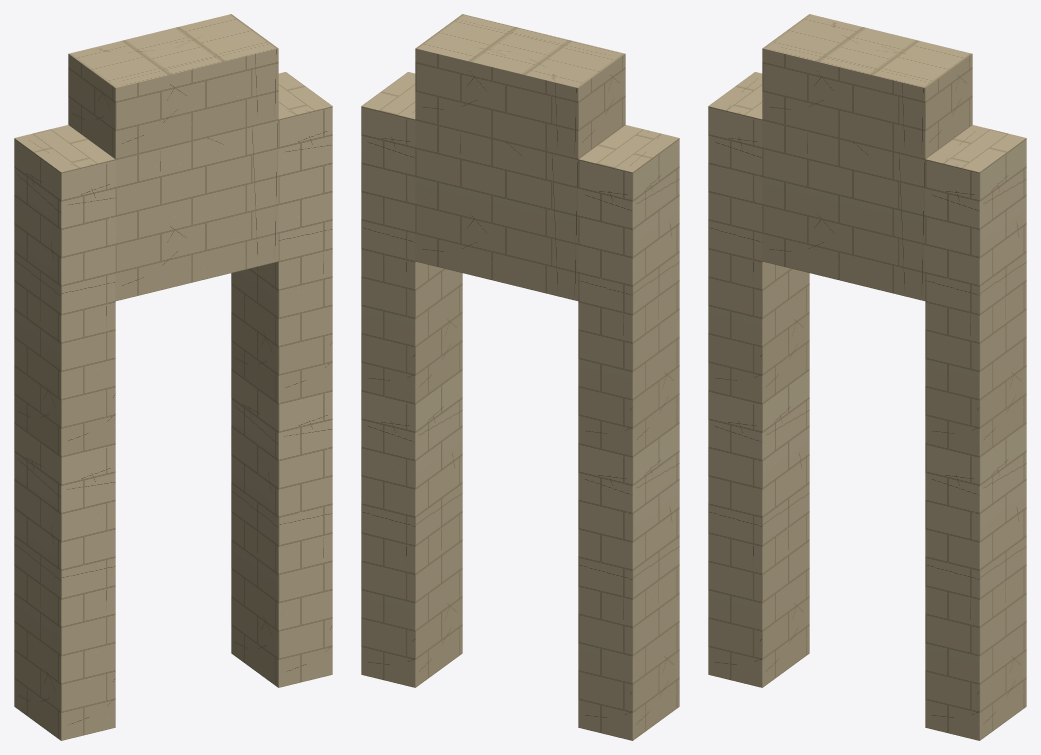
The model's file is doorway_arch.obj.
3 views of the same model, side by side, from view 1: azimuth 30°, elevation 25°; view 2: azimuth 150°, elevation 25°; view 3: azimuth 330°, elevation 25° (orthographic).
Visible parts, largest first — view 1: doorway_arch; view 2: doorway_arch; view 3: doorway_arch.
Boxes of the visible parts, left/top/right/bottom form: doorway_arch: left=14, top=14, right=332, bottom=740; doorway_arch: left=361, top=14, right=679, bottom=740; doorway_arch: left=708, top=14, right=1026, bottom=740.
Bounding box in the file's own units: 1 × 2.25 × 0.3.
Materials: 1 (1 with a texture image).
